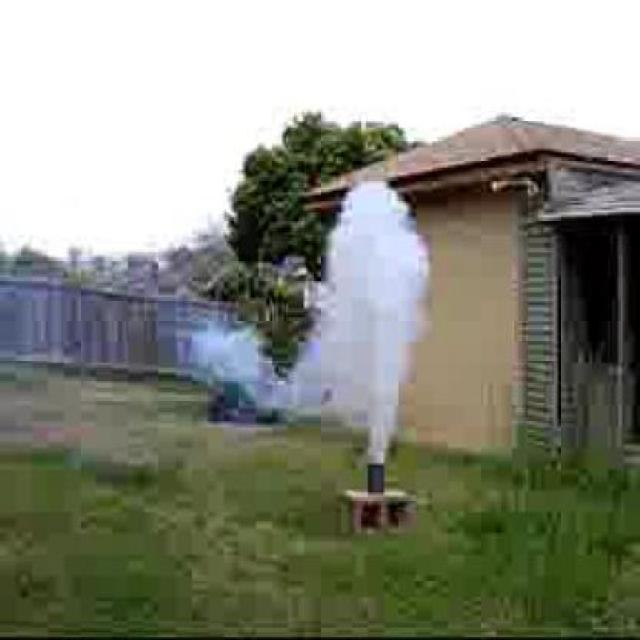Smoke: (195, 177, 428, 468)
